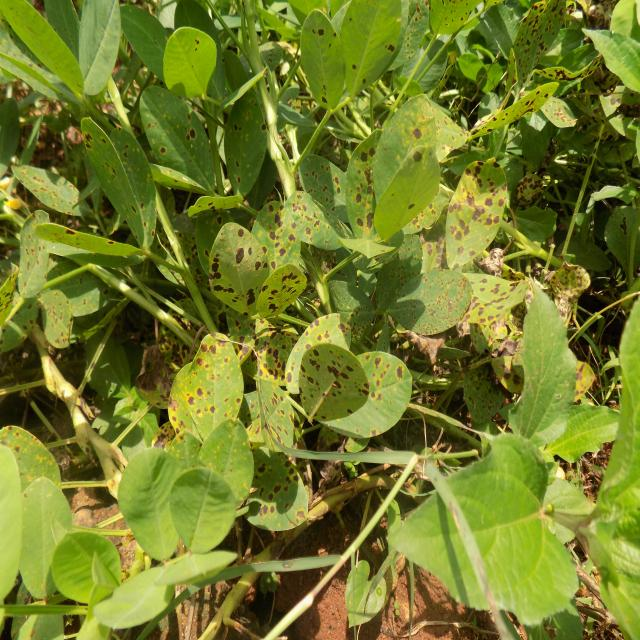Ground nut_healthy: (118, 446, 184, 564), (170, 470, 238, 554)
Ground nut_tikka leaf spot: (140, 85, 217, 194), (321, 351, 412, 436), (446, 156, 508, 270), (185, 330, 242, 445), (233, 446, 307, 529), (211, 222, 270, 321), (386, 269, 474, 334), (300, 343, 368, 423), (224, 87, 266, 201), (250, 201, 301, 288), (286, 187, 356, 250), (301, 9, 344, 109)
